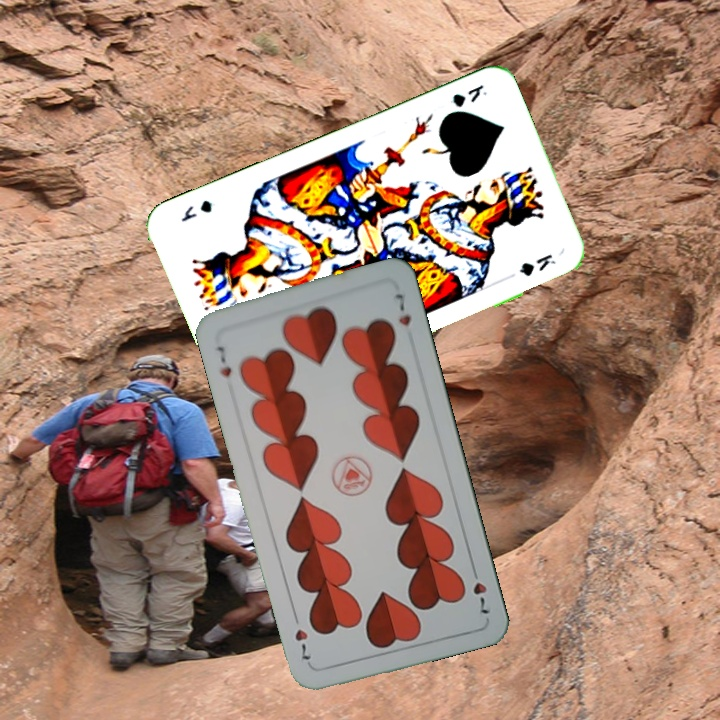GK: (447, 80, 490, 111)
H7: (467, 561, 493, 617), (211, 342, 234, 380)
